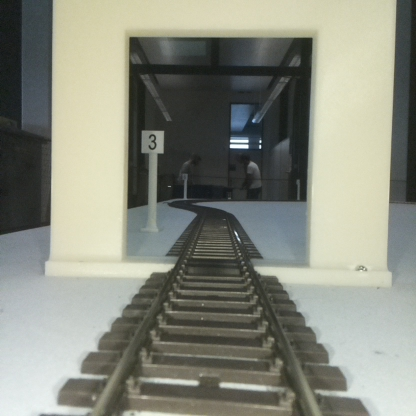white-info-3: (141, 131, 163, 231)
